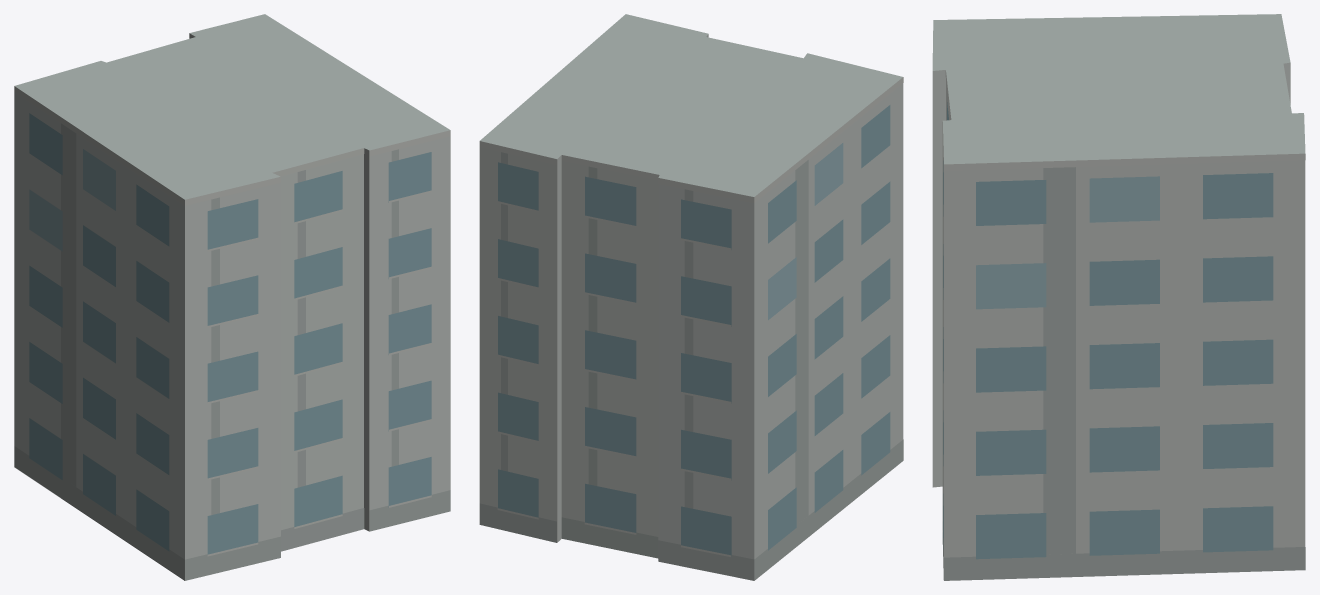
File: survey-upis-33000232.glb
3 renders of one model, left to right at view 1: azimuth 30°, elevation 25°; view 2: azimuth 150°, elevation 25°; view 3: azimuth 270°, elevation 25°, orthographic. The views are drawn at different scales.
Parts seen in each view (by area): view 1: survey-upis-33000232.tmp; view 2: survey-upis-33000232.tmp; view 3: survey-upis-33000232.tmp.
Boxes of the visible parts, bbox=[...] form: survey-upis-33000232.tmp: bbox=[14, 14, 450, 580]; survey-upis-33000232.tmp: bbox=[479, 14, 903, 580]; survey-upis-33000232.tmp: bbox=[932, 14, 1305, 580].
Bounding box in the file's own units: 11.82 × 15.25 × 12.39.
